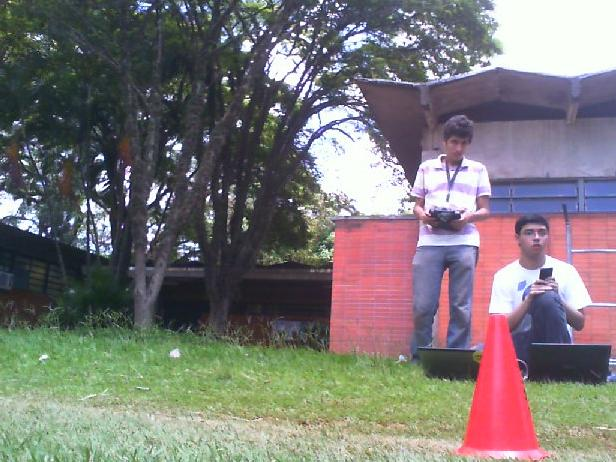0 cone: (451, 315, 551, 461)
